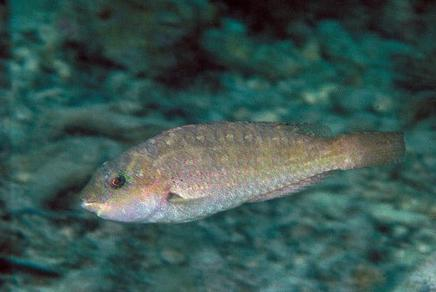Scaridae -Parrotfishes-: (65, 108, 413, 230)
